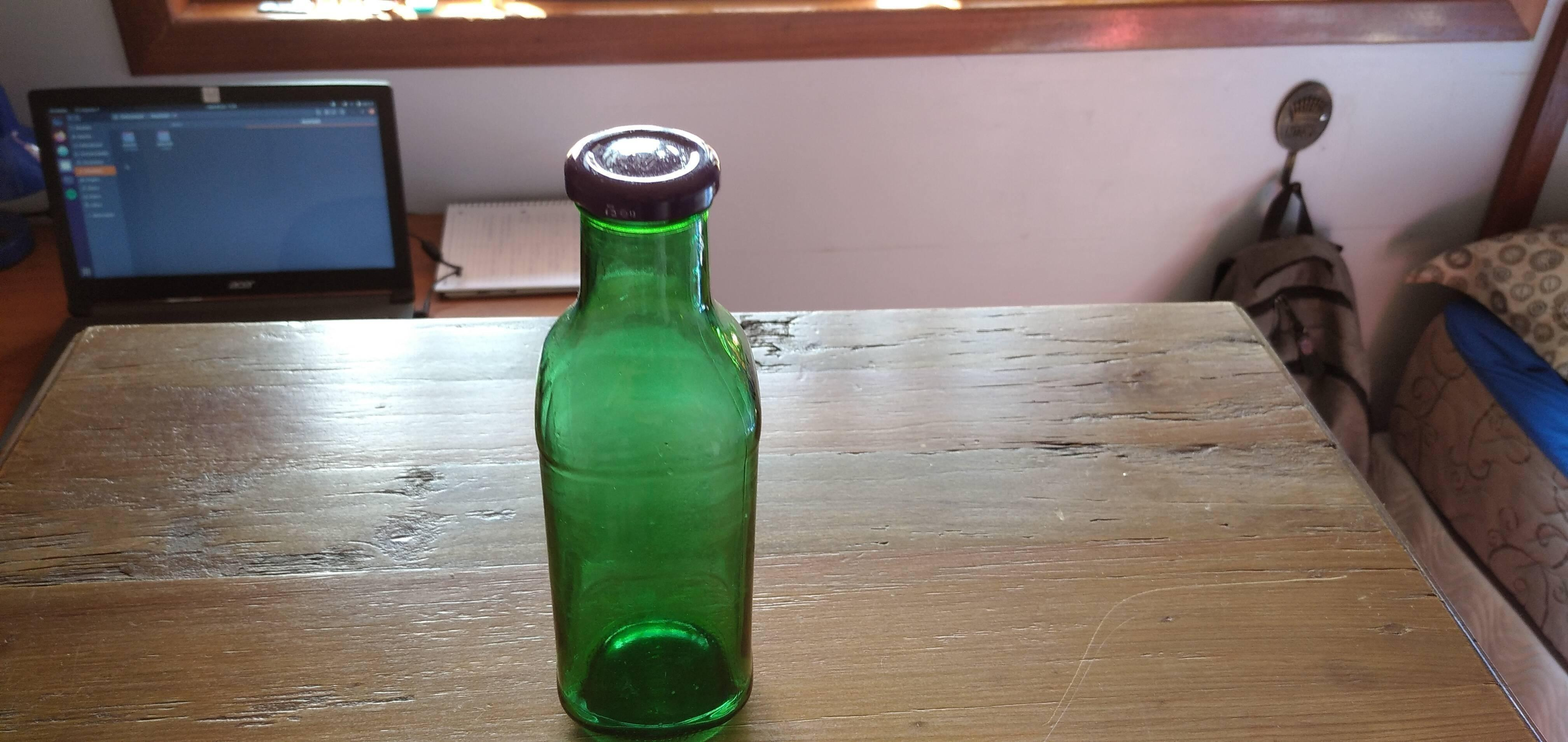bottle-glass: (523, 113, 780, 742)
